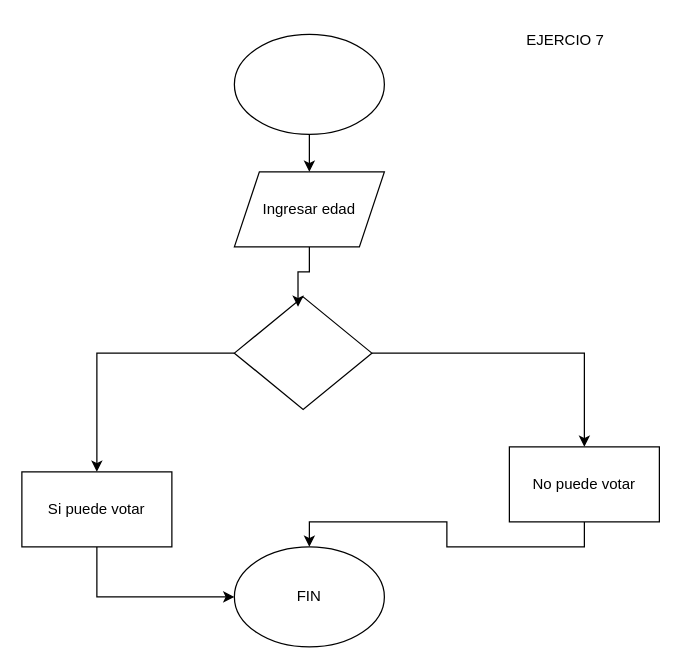
The diagram is 681 pixels wide and 669 high, and some of its shapes have lost their labels. Here are the shapes that lost their labels. From the top down, the centre of each, then its label:
At (x=308, y=83): "INICIO".
At (x=302, y=352): "edad>18".
